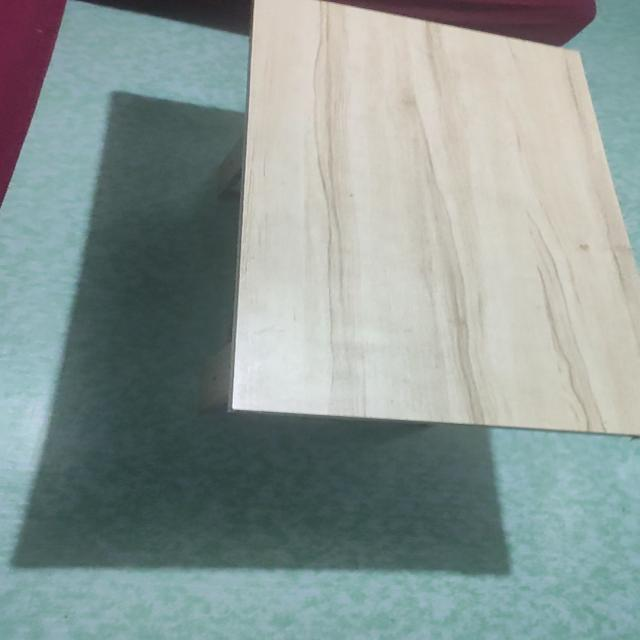table: (213, 0, 640, 453)
